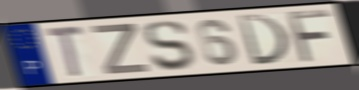6: (195, 18, 240, 67)
D: (235, 13, 292, 67)
F: (285, 8, 334, 65)
S: (142, 19, 196, 73)
T: (43, 24, 87, 80)
Z: (89, 22, 152, 77)
